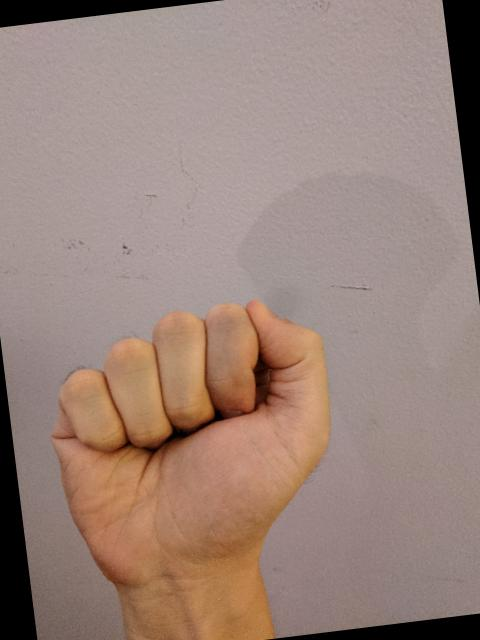A: (32, 284, 358, 598)
